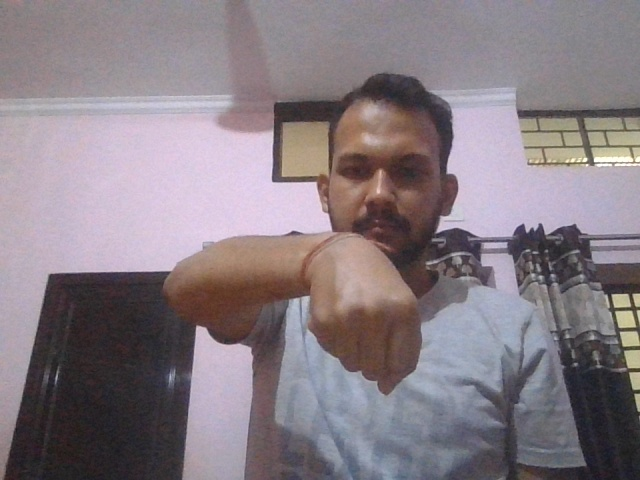yes: (308, 233, 424, 397)
